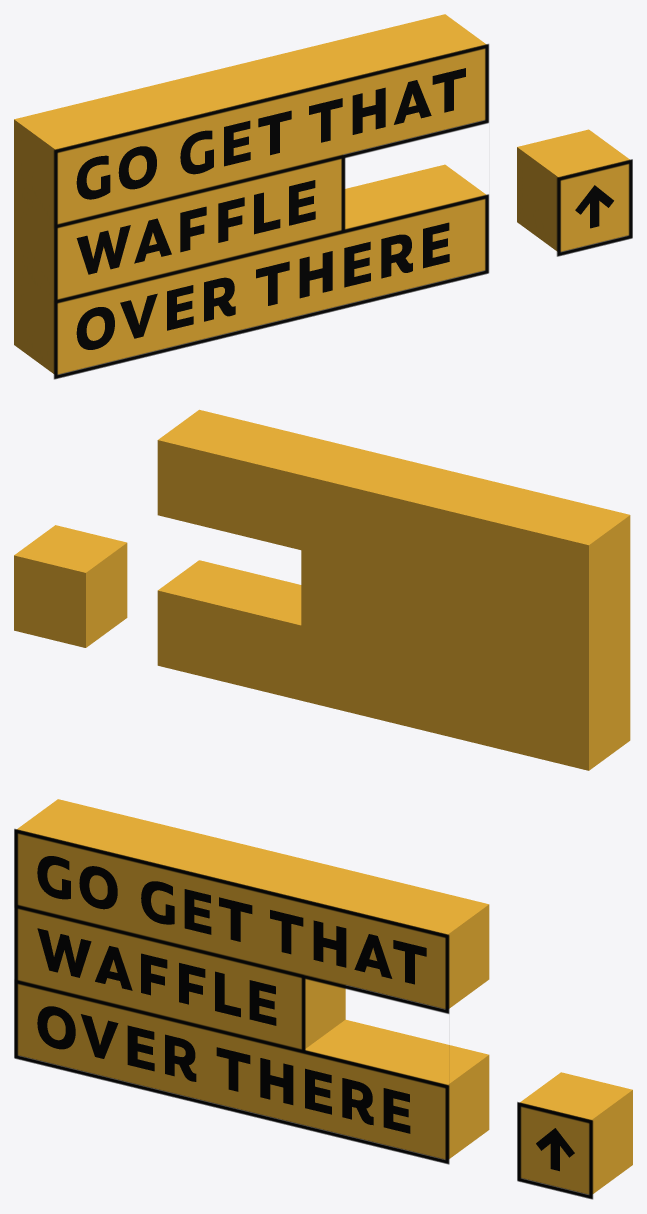
File: go_get_that_waffle_over_there.gltf
The picture shows the model from 3 angles, top to bottom: view 1: azimuth 30°, elevation 25°; view 2: azimuth 150°, elevation 25°; view 3: azimuth 330°, elevation 25°; orthographic projection.
Visible parts, largest first — view 1: Cube 9 (×4), outline.png, Text 3, Text, Text 2, Rectangle 7976.png, Text 4; view 2: Cube 9 (×4); view 3: Cube 9 (×4), outline.png, Text 3, Text, Text 2, Rectangle 7976.png, Text 4.
Boxes of the visible parts, x1=… form: Cube 9 (×4): x1=14, y1=14, x2=629, y2=374; outline.png: x1=53, y1=44, x2=489, y2=379; Text 3: x1=76, y1=222, x2=449, y2=349; Text: x1=76, y1=68, x2=465, y2=199; Text 2: x1=76, y1=180, x2=315, y2=274; Rectangle 7976.png: x1=556, y1=159, x2=632, y2=256; Text 4: x1=575, y1=185, x2=613, y2=228; Cube 9 (×4): x1=14, y1=409, x2=630, y2=770; Cube 9 (×4): x1=17, y1=799, x2=632, y2=1194; outline.png: x1=14, y1=829, x2=449, y2=1164; Text 3: x1=37, y1=1006, x2=410, y2=1133; Text: x1=37, y1=856, x2=426, y2=984; Text 2: x1=37, y1=928, x2=276, y2=1025; Rectangle 7976.png: x1=517, y1=1102, x2=593, y2=1199; Text 4: x1=536, y1=1128, x2=574, y2=1171.
Bounding box in the file's own units: 8.06 × 3.06 × 1.01.
Materials: 7 (2 with a texture image).
